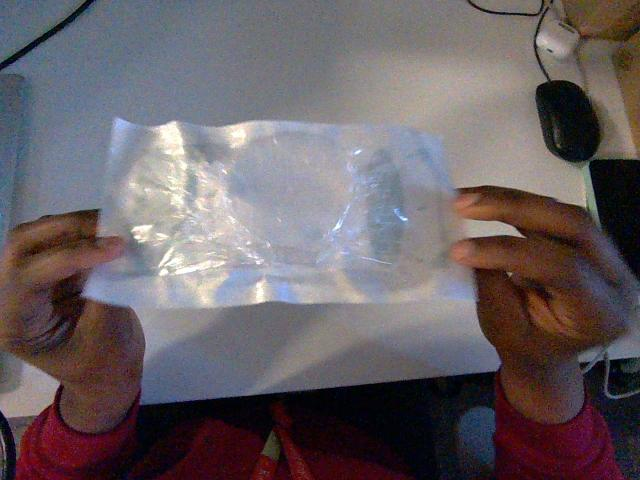gallipot: (85, 120, 472, 307)
